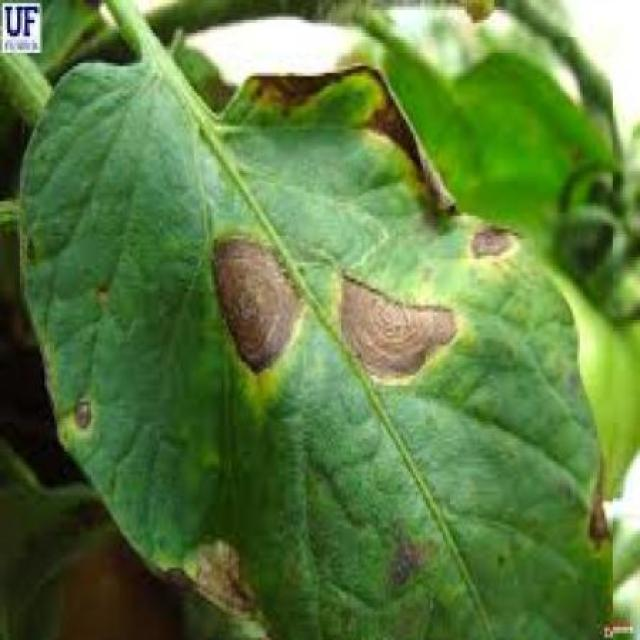Early Blight: (13, 37, 613, 640)
